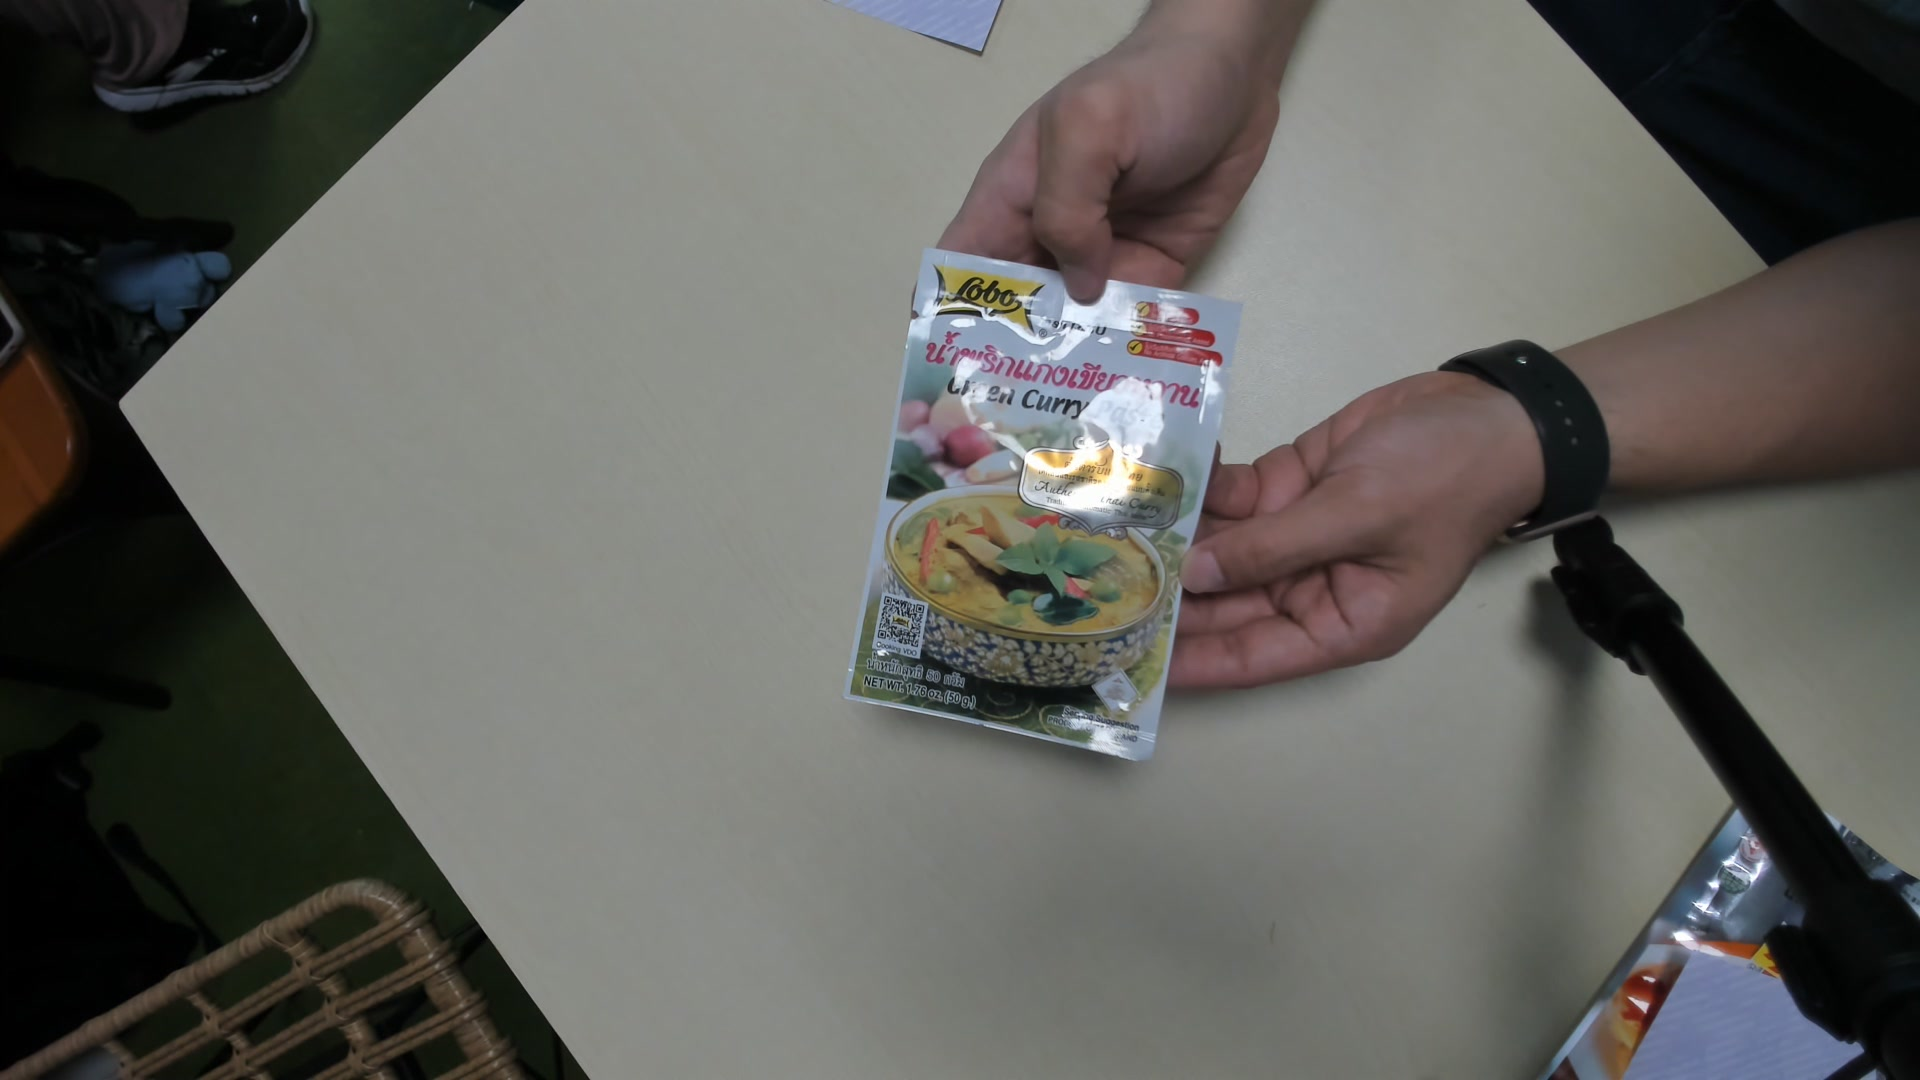CurryPastePowderSauce_0-99g_Halal_NonHealthy: (856, 247, 1241, 756)
